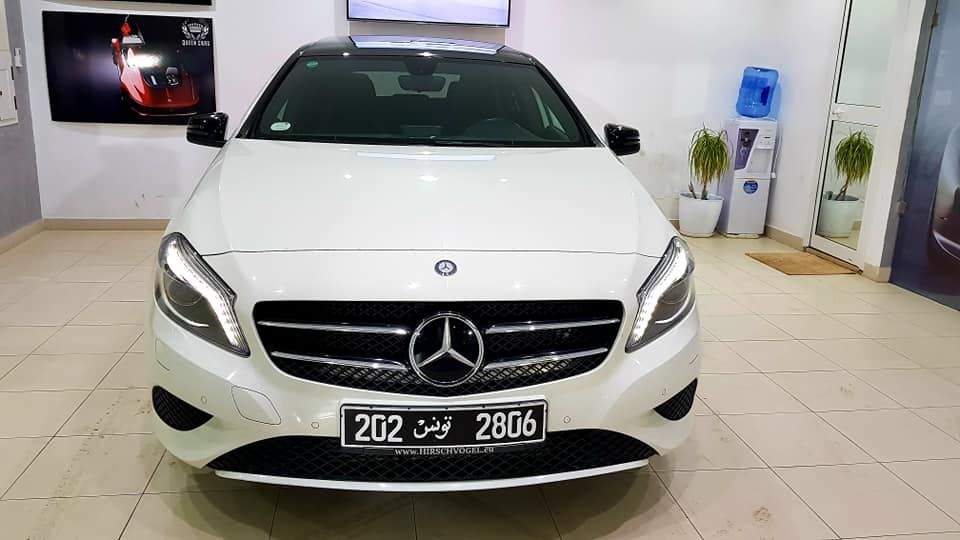LP: (340, 403, 547, 444)
